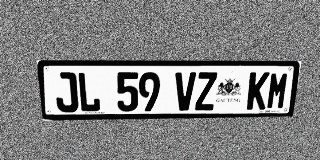5: (117, 72, 138, 112)
9: (139, 72, 160, 111)
J: (53, 72, 79, 112)
K: (246, 72, 270, 110)
L: (77, 72, 101, 112)
M: (266, 72, 290, 109)
V: (174, 72, 196, 111)
Z: (195, 72, 217, 110)
